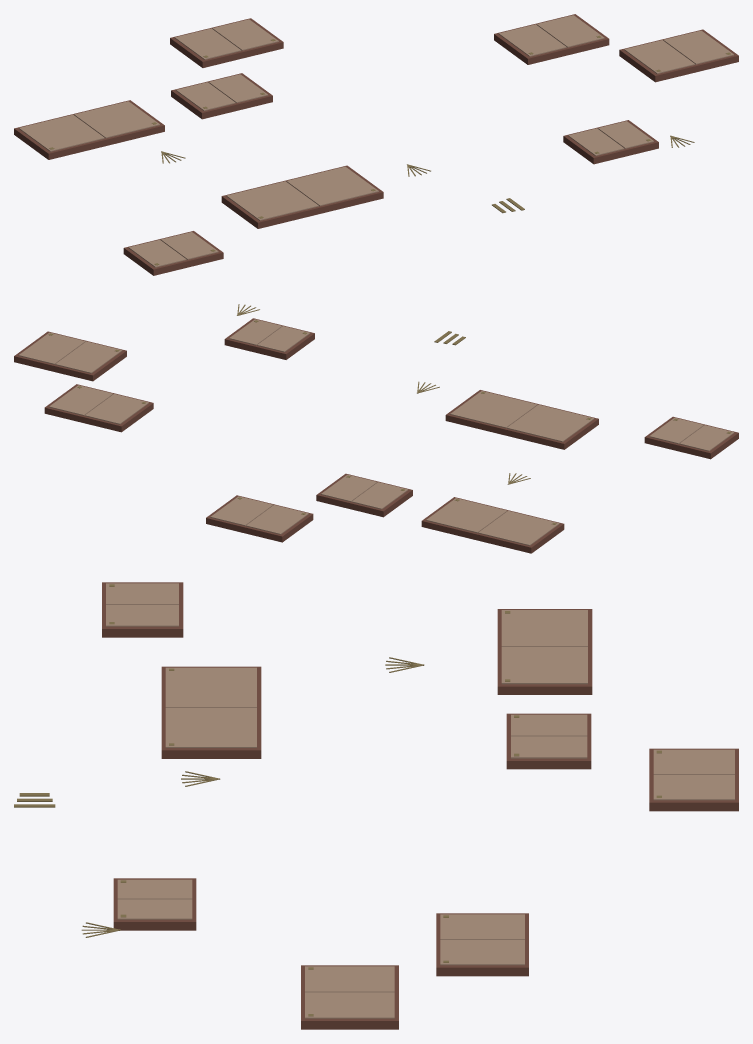
The model's file is R09-architecture.glb.
3 renders of one model, top to bottom at view 1: azimuth 30°, elevation 25°; view 2: azimuth 150°, elevation 25°; view 3: azimuth 270°, elevation 25°, orthographic. The views are drawn at different scales.
Visible parts, largest first — view 1: Loan counter footing • seat 1, Loan counter footing • seat 2, Nacre display plinth • seat 1, Nacre display plinth • seat 2, Loan counter footing • bedding, Nacre display plinth • bedding, Endpoint card dais • seat 2, Endpoint card dais • seat 1, Endpoint card dais • bedding, Injector service pad • bedding, Injector service pad • seat 1, Injector service pad • seat 2 (+12 smaller); view 2: Loan counter footing • seat 1, Loan counter footing • seat 2, Nacre display plinth • seat 1, Nacre display plinth • seat 2, Loan counter footing • bedding, Nacre display plinth • bedding, Endpoint card dais • seat 2, Endpoint card dais • seat 1, Endpoint card dais • bedding, Injector service pad • bedding, Broad cage sill • bedding, Injector service pad • seat 2 (+12 smaller); view 3: Loan counter footing • seat 2, Loan counter footing • seat 1, Nacre display plinth • seat 2, Nacre display plinth • seat 1, Endpoint card dais • seat 1, Endpoint card dais • seat 2, Injector service pad • seat 2, Injector service pad • seat 1, Broad cage sill • seat 1, Broad cage sill • seat 2, Loan counter footing • bedding, Nacre display plinth • bedding (+12 smaller).
Boxes of the visible parts, box(x1,y1,x2,y2) form: Loan counter footing • seat 1: box(226, 181, 318, 220); Loan counter footing • seat 2: box(286, 166, 378, 205); Nacre display plinth • seat 1: box(19, 114, 104, 151); Nacre display plinth • seat 2: box(74, 101, 159, 138); Loan counter footing • bedding: box(221, 165, 383, 228); Nacre display plinth • bedding: box(14, 100, 164, 159); Endpoint card dais • seat 2: box(663, 30, 733, 64); Endpoint card dais • seat 1: box(624, 40, 695, 73); Endpoint card dais • bedding: box(619, 29, 738, 82); Injector service pad • bedding: box(494, 14, 609, 64); Injector service pad • seat 1: box(498, 24, 566, 56); Injector service pad • seat 2: box(536, 15, 604, 47); Loan counter footing • seat 1: box(507, 404, 594, 441); Loan counter footing • seat 2: box(450, 391, 537, 428); Nacre display plinth • seat 1: box(478, 510, 559, 545); Nacre display plinth • seat 2: box(426, 498, 507, 532); Loan counter footing • bedding: box(445, 390, 598, 449); Nacre display plinth • bedding: box(421, 497, 564, 553); Endpoint card dais • seat 2: box(18, 332, 85, 364); Endpoint card dais • seat 1: box(55, 341, 122, 373); Endpoint card dais • bedding: box(14, 331, 126, 381); Injector service pad • bedding: box(44, 384, 153, 432); Broad cage sill • bedding: box(206, 495, 313, 542); Injector service pad • seat 2: box(49, 385, 113, 415); Loan counter footing • seat 2: box(165, 707, 256, 747); Loan counter footing • seat 1: box(165, 667, 256, 707); Nacre display plinth • seat 2: box(501, 647, 587, 684); Nacre display plinth • seat 1: box(501, 610, 587, 646); Endpoint card dais • seat 1: box(305, 966, 394, 992); Endpoint card dais • seat 2: box(305, 992, 394, 1018); Injector service pad • seat 2: box(440, 939, 524, 965); Injector service pad • seat 1: box(440, 914, 524, 939); Broad cage sill • seat 1: box(653, 749, 734, 774); Broad cage sill • seat 2: box(653, 775, 734, 800); Loan counter footing • bedding: box(161, 666, 261, 758); Nacre display plinth • bedding: box(497, 609, 592, 694).
Bounding box in the file's own units: 12.51 × 0.138 × 8.74.
